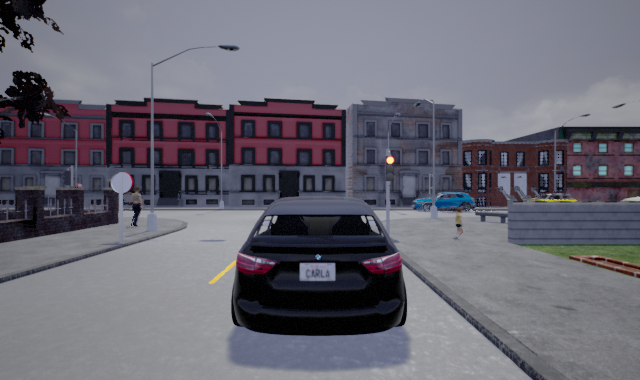pedestrian: (128, 185, 142, 227), (451, 205, 464, 241)
traffic_light: (385, 155, 395, 183)
vehicle: (231, 196, 408, 335), (410, 189, 478, 213), (529, 192, 580, 205)
